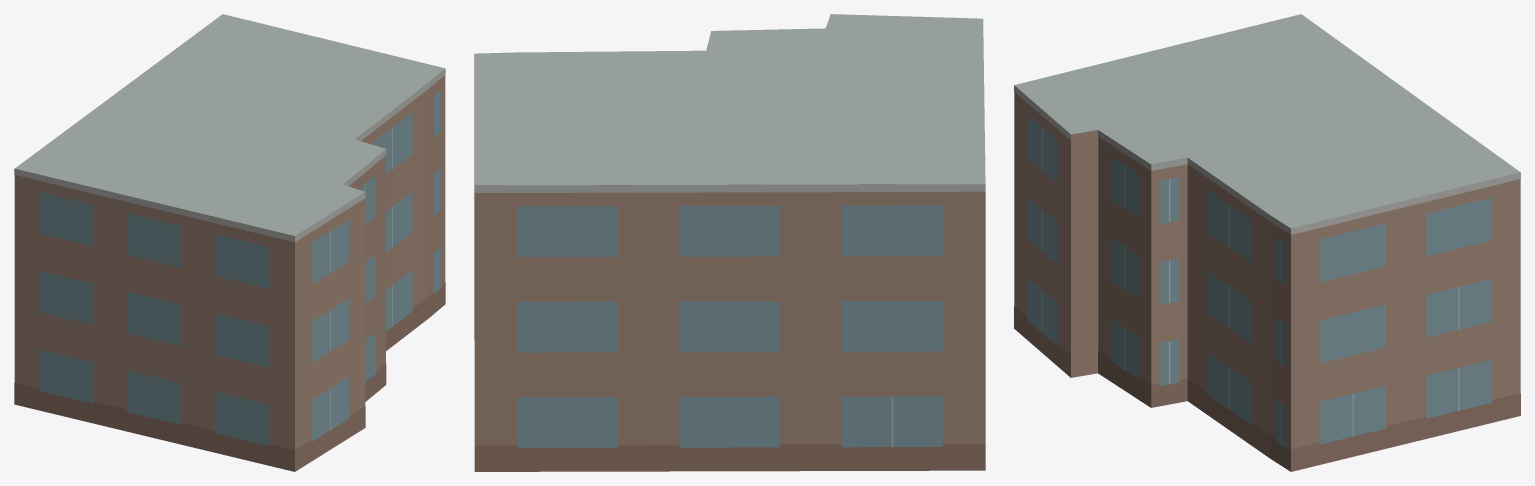
Rendered from survey-upis-32691585.glb.
3 views of the same model, side by side, from view 1: azimuth 30°, elevation 25°; view 2: azimuth 150°, elevation 25°; view 3: azimuth 270°, elevation 25° (orthographic). The views are drawn at different scales.
Visible parts, largest first — view 1: survey-upis-32691585.tmp; view 2: survey-upis-32691585.tmp; view 3: survey-upis-32691585.tmp.
Part boxes in pixels (x1,y1,x2,y2): survey-upis-32691585.tmp: [14, 14, 445, 471]; survey-upis-32691585.tmp: [474, 14, 985, 471]; survey-upis-32691585.tmp: [1014, 14, 1520, 471].
Bounding box in the file's own units: 17.3 × 9.15 × 17.27.
